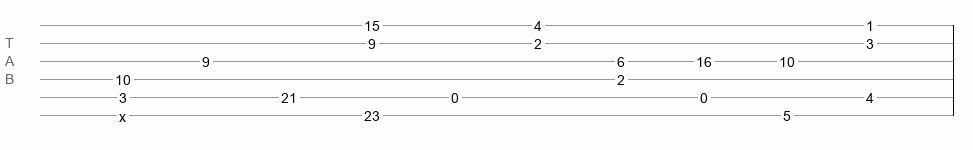0: (451, 90, 459, 100), (700, 90, 708, 100)
1: (866, 18, 874, 28)
10: (115, 72, 131, 82), (779, 54, 795, 64)
15: (364, 18, 380, 28)
16: (696, 54, 712, 64)
2: (534, 36, 542, 46), (617, 72, 625, 82)
21: (281, 90, 297, 100)
23: (364, 108, 380, 118)
3: (119, 90, 127, 100), (866, 36, 874, 46)
4: (534, 18, 542, 28), (866, 90, 874, 100)
5: (783, 108, 791, 118)
6: (617, 54, 625, 64)
9: (202, 54, 210, 64), (368, 36, 376, 46)
x: (119, 109, 126, 117)
